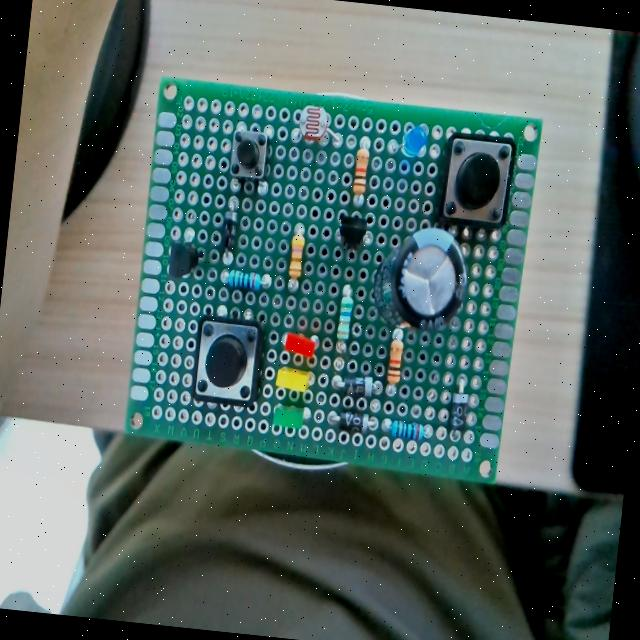Electrolytic capacitor: (370, 220, 472, 336)
cds: (288, 99, 344, 150)
diode: (212, 190, 248, 260), (443, 370, 474, 446), (320, 404, 378, 438), (328, 368, 380, 402)
led: (270, 323, 326, 365), (396, 116, 430, 169), (263, 406, 317, 438), (271, 366, 321, 396)
resistor: (377, 404, 431, 454), (335, 288, 354, 344), (226, 268, 270, 292), (288, 228, 306, 280), (386, 335, 404, 385), (352, 147, 369, 195)
switch: (438, 131, 517, 229), (191, 315, 263, 405), (228, 129, 269, 183)
transistor: (161, 229, 203, 288), (336, 212, 372, 258)
